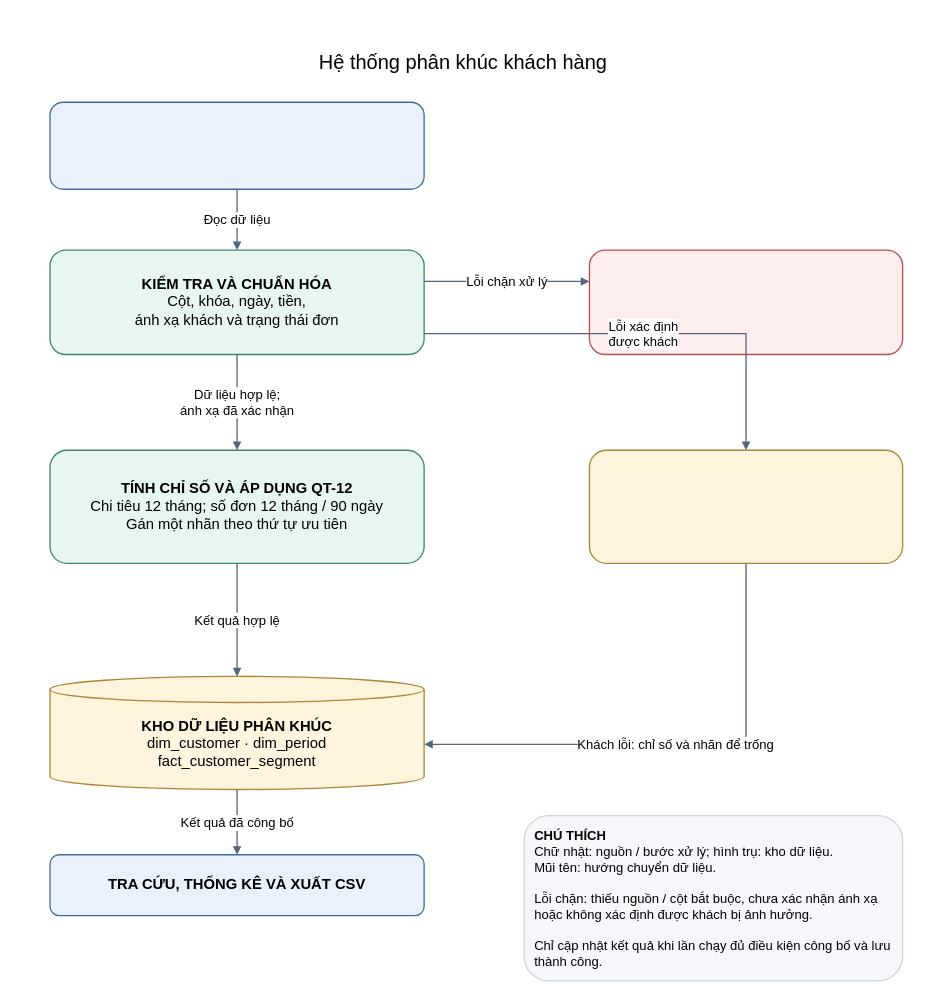
Image size: 926x996. Some labels were removed from this diagram. The shapes that lost their labels are listed below. From the top down, each one's centre as x and y in pixels, then its label:
At point (236, 145): "NGUỒN CSV customers_raw.csv orders_2024_2026.csv".
At point (745, 302): "DỪNG CÔNG BỐ VÀ BÁO LỖI Giữ kết quả thành công trước đó".
At point (745, 506): "GHI DATA_ERROR Ghi khách bị ảnh hưởng và báo cáo lỗi Chỉ số, phân khúc để trống".
